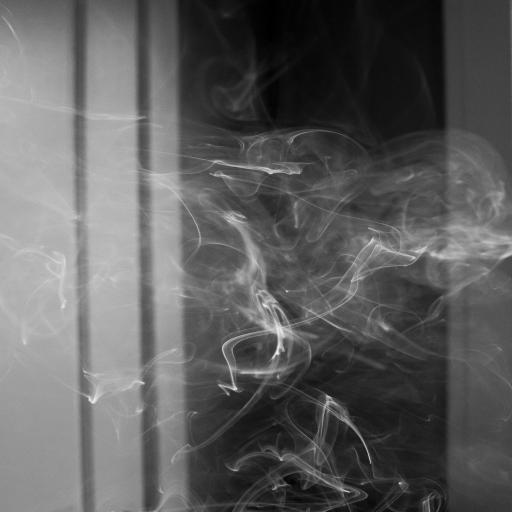smoke: (0, 34, 512, 406)
